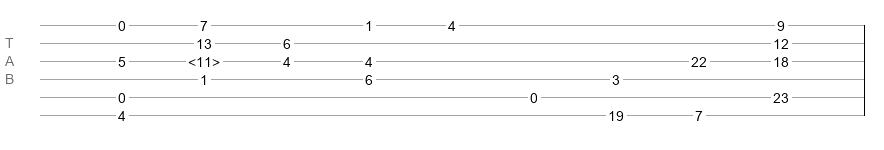0: (118, 90, 126, 100), (118, 18, 126, 28), (530, 90, 538, 100)
1: (200, 72, 208, 82), (365, 18, 373, 28)
12: (773, 36, 789, 46)
13: (196, 36, 212, 46)
18: (773, 54, 789, 64)
19: (608, 108, 624, 118)
22: (691, 54, 707, 64)
23: (773, 90, 789, 100)
3: (612, 72, 620, 82)
4: (118, 108, 126, 118), (283, 54, 291, 64), (365, 54, 373, 64), (448, 18, 456, 28)
5: (118, 54, 126, 64)
6: (283, 36, 291, 46), (365, 72, 373, 82)
7: (200, 18, 208, 28), (695, 108, 703, 118)
9: (777, 18, 785, 28)
harmonic: (188, 54, 220, 64)
